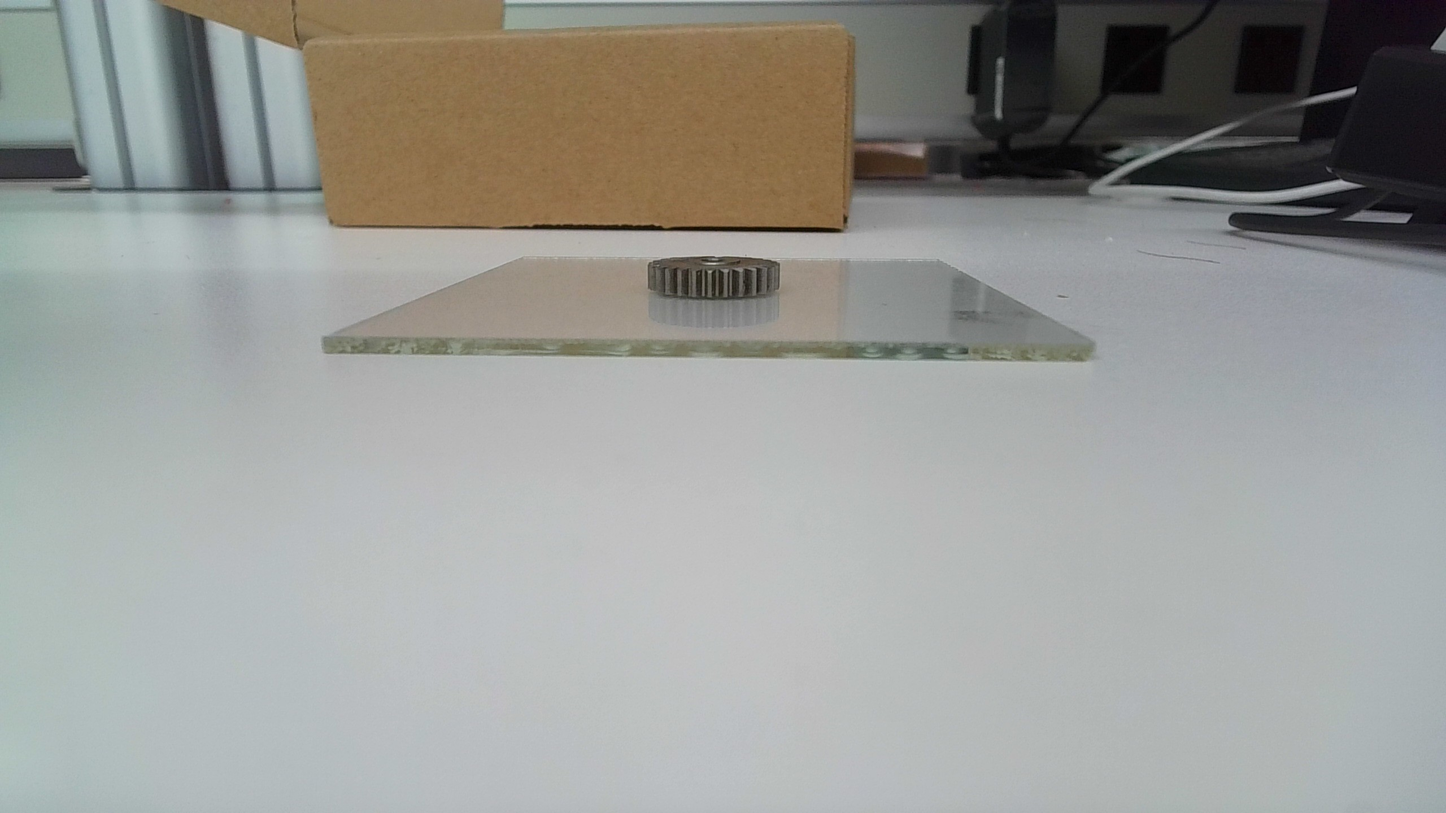gear: (644, 255, 786, 301)
